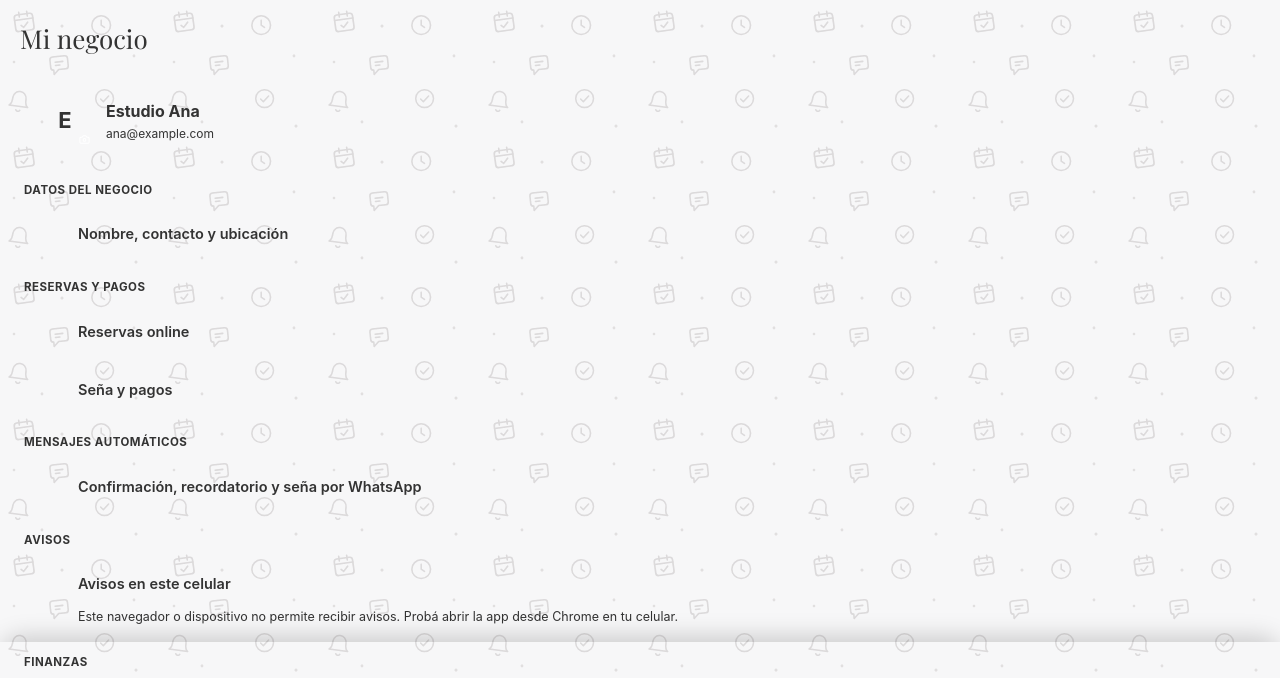
Test: PerfilPage — hub "Mi negocio" › abre Seña y pagos con el monto guardado (modo fijo)
Click the button "Seña y pagos" at (125,389), box [20,360,1260,418]
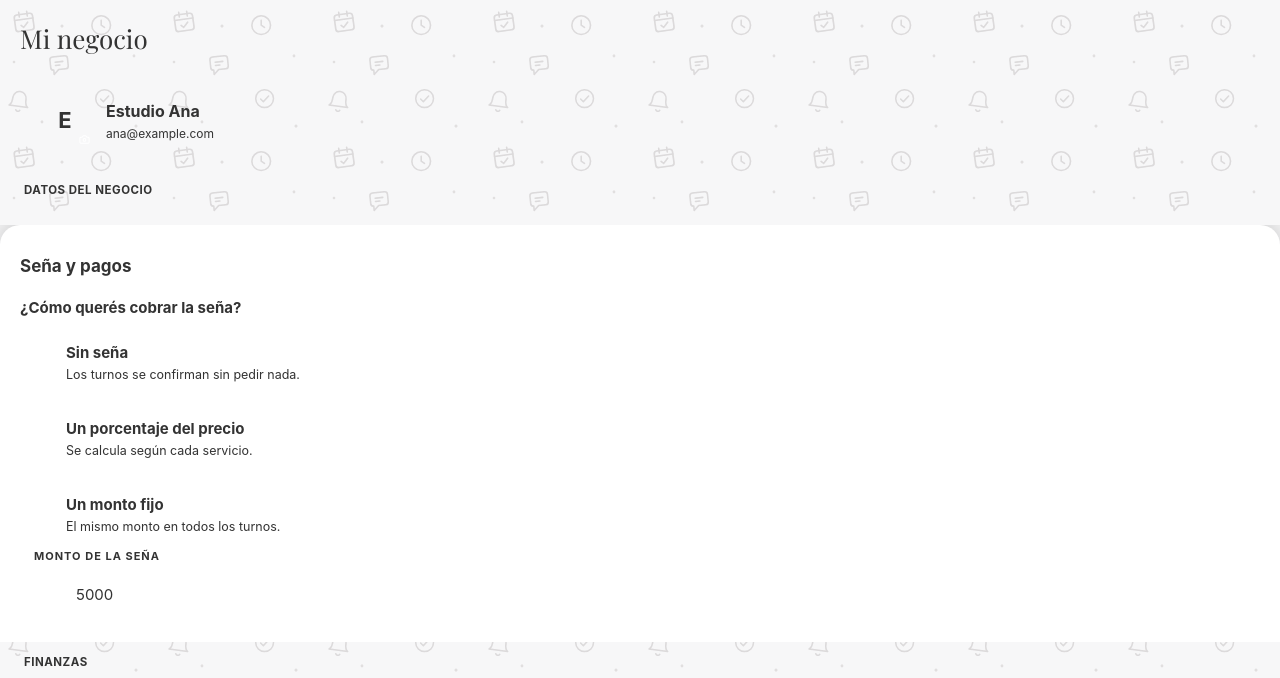
expect the field named "Monto de la seña" holds "5000": met, box [76,584,1232,606]
